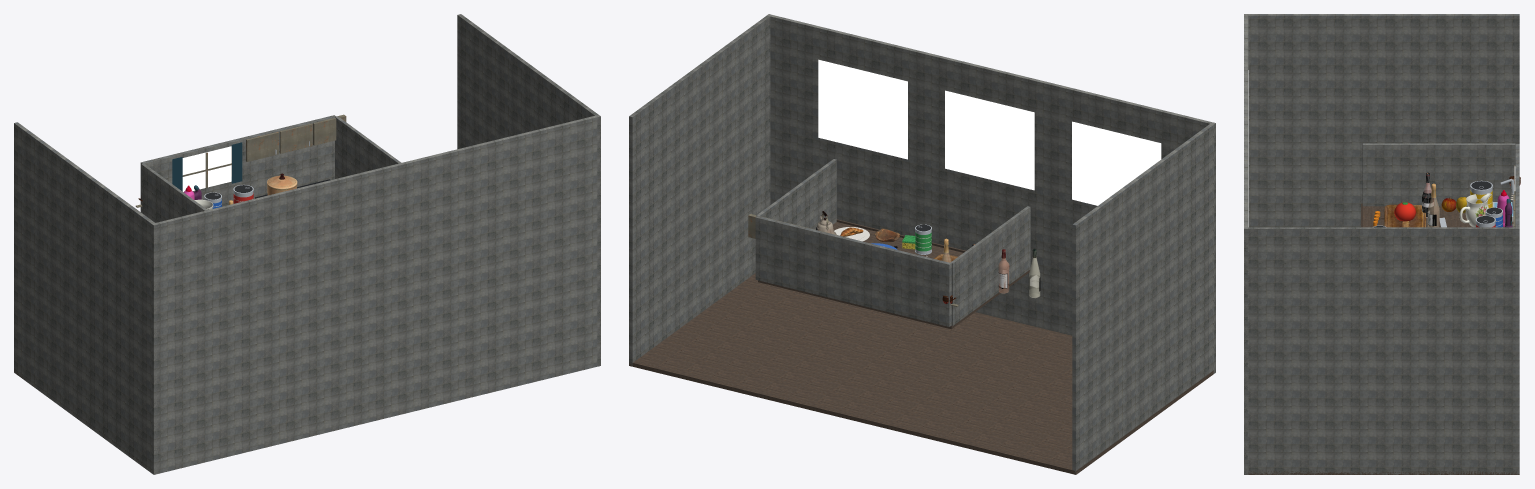
The model's file is dapur.glb.
The picture shows the model from 3 angles, left to right: view 1: azimuth 30°, elevation 25°; view 2: azimuth 150°, elevation 25°; view 3: azimuth 270°, elevation 25°; orthographic projection.
Parts seen in each view (by area): view 1: statis; view 2: statis; view 3: statis.
Boxes of the visible parts, x1=… form: statis: x1=14, y1=14, x2=600, y2=474; statis: x1=629, y1=14, x2=1215, y2=474; statis: x1=1244, y1=14, x2=1520, y2=474.
Bounding box in the file's own units: 120 × 64 × 65.28.
57 materials, 38 textured.
